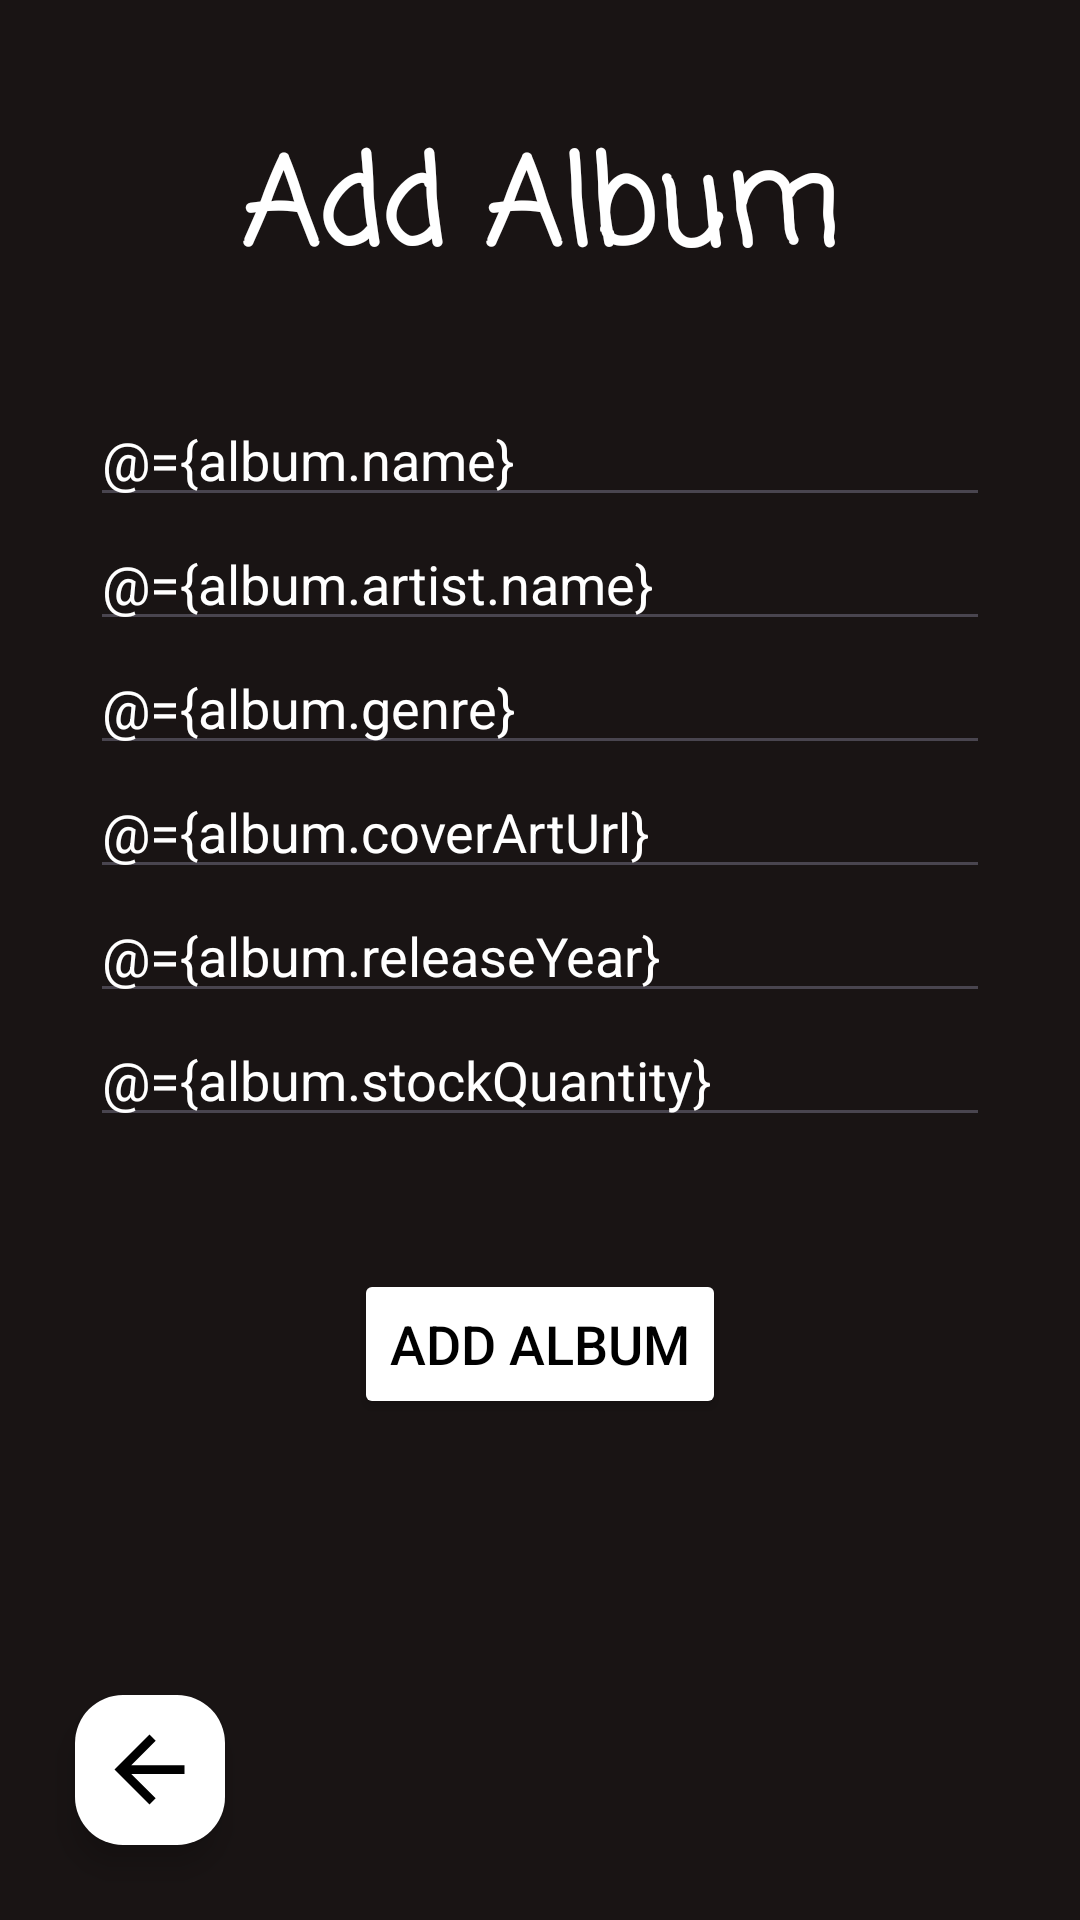

Icon bounding boxes for this 1080 x 1920 phone screenshot, format Rect(x1, y1, x2, y2):
back arrow: Rect(75, 1695, 225, 1845)
